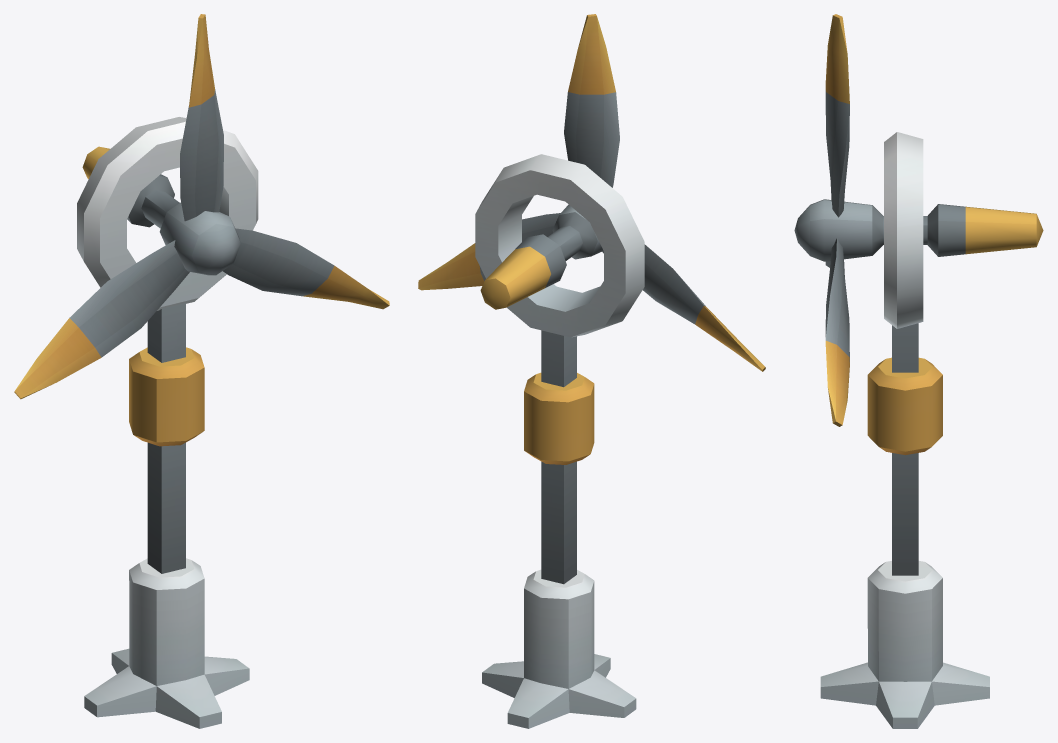
File: windturbine_tall.glb
The picture shows the model from 3 angles, left to right: view 1: azimuth 30°, elevation 25°; view 2: azimuth 150°, elevation 25°; view 3: azimuth 270°, elevation 25°; orthographic projection. The views are drawn at different scales.
Parts seen in each view (by area): view 1: windturbine_tall_fan, windturbine_tall; view 2: windturbine_tall_fan, windturbine_tall; view 3: windturbine_tall, windturbine_tall_fan.
Part boxes in pixels (x1,y1,x2,y2): windturbine_tall_fan: (14, 14, 389, 399); windturbine_tall: (84, 303, 249, 728); windturbine_tall_fan: (418, 14, 765, 371); windturbine_tall: (482, 330, 636, 728); windturbine_tall: (820, 323, 989, 728); windturbine_tall_fan: (794, 14, 1043, 426).
Bounding box in the file's own units: 1.67 × 3 × 0.9998.
Materials: 1 (1 with a texture image).
